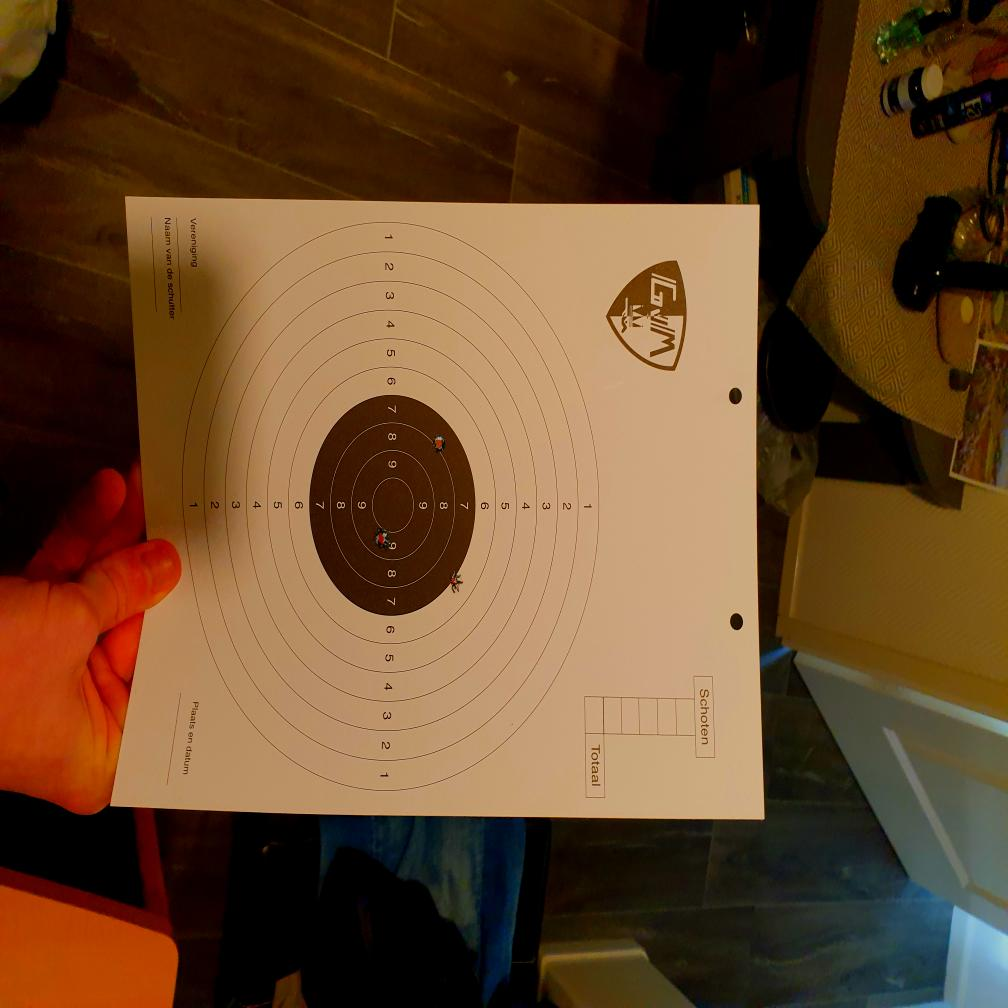10: (373, 526, 391, 550)
7: (448, 567, 463, 593)
8: (433, 433, 446, 453)
Target: (182, 222, 600, 796)
black_contour: (309, 396, 477, 616)
